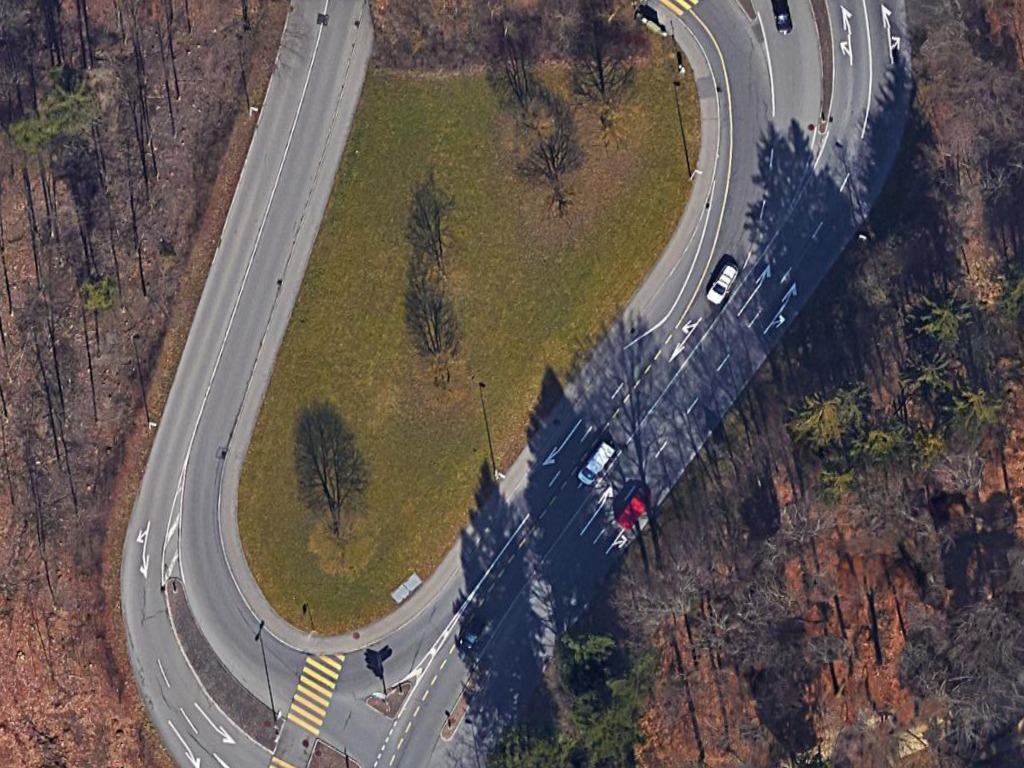car: (702, 256, 742, 310)
van: (571, 437, 619, 489)
